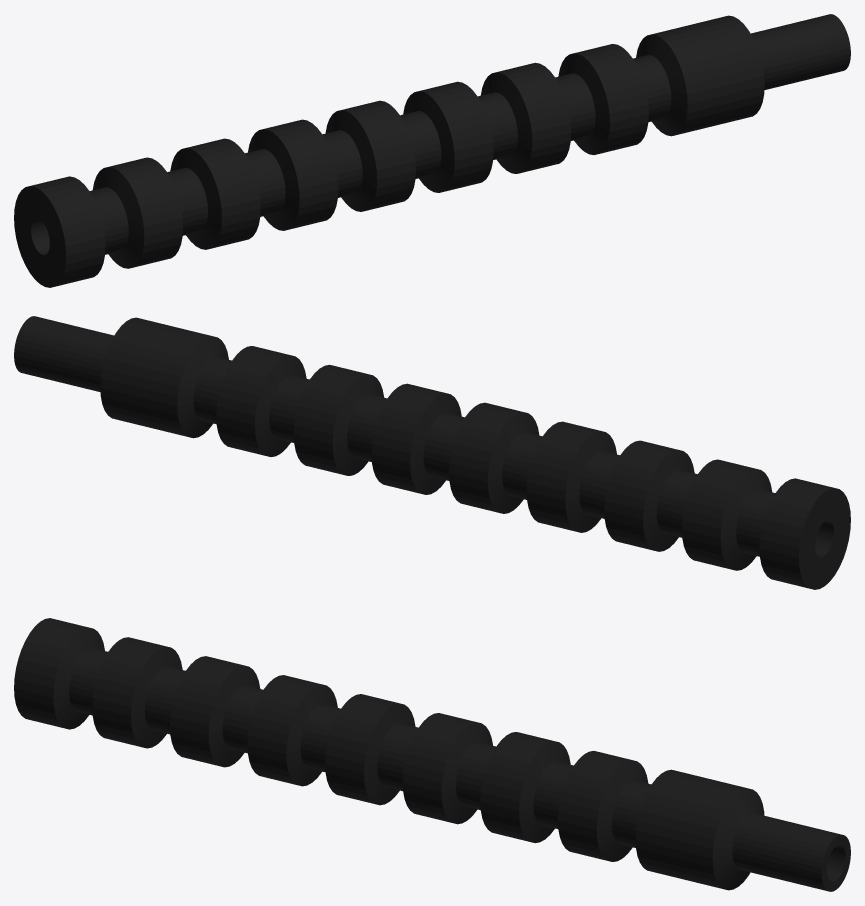
File: SuppresorGrub.fbx
The picture shows the model from 3 angles, top to bottom: view 1: azimuth 30°, elevation 25°; view 2: azimuth 150°, elevation 25°; view 3: azimuth 330°, elevation 25°; orthographic projection.
Parts seen in each view (by area): view 1: Cylinder.002; view 2: Cylinder.002; view 3: Cylinder.002.
Boxes of the visible parts, bbox=[...] form: Cylinder.002: bbox=[14, 14, 850, 287]; Cylinder.002: bbox=[14, 316, 850, 589]; Cylinder.002: bbox=[14, 618, 850, 891].
Size of the model in its own units: 14.51 by 1.65 by 1.65.
